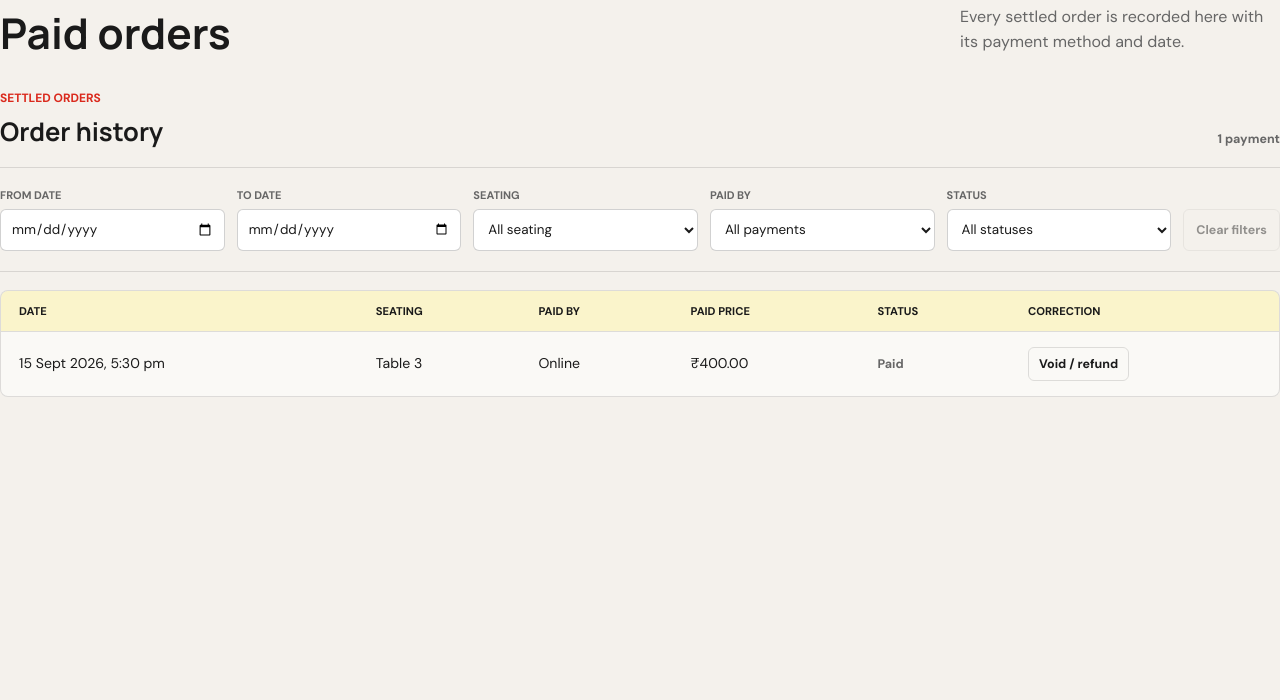
Test: financial views › records a reasoned refund while retaining the original paid order
Click the button "Void / refund" at (1079, 364), box [1028, 346, 1129, 380]
(page scrolled)
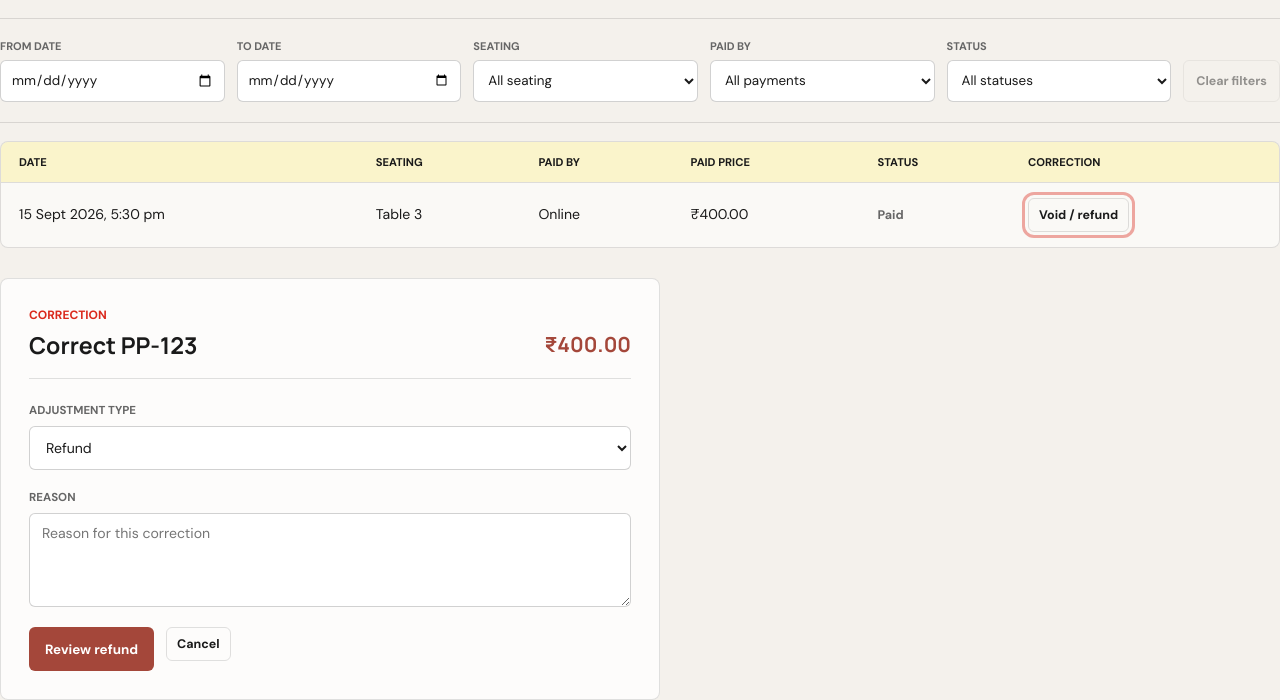
Type "Duplicate payment" into the text box labelled "Reason" at (330, 560), box [29, 513, 631, 607]
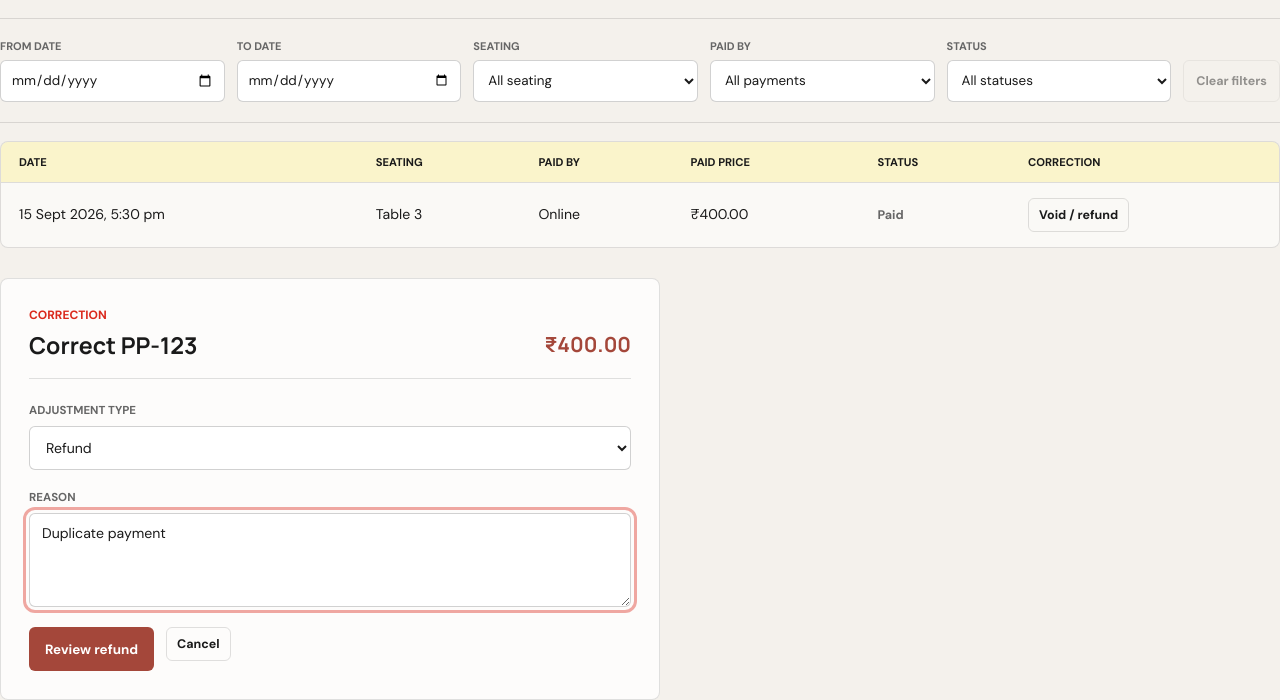
Click the button "Review refund" at (92, 649), box [29, 627, 154, 671]
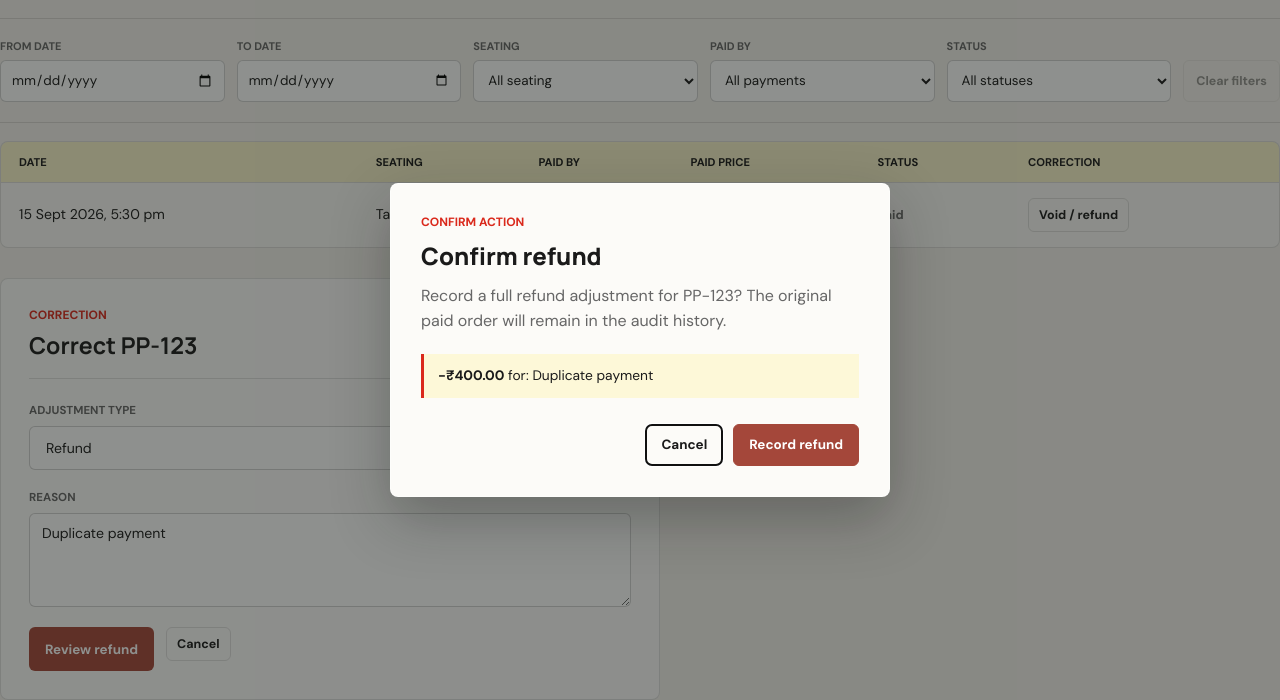
Expected: the dialog "Confirm refund" shows "-₹400.00", [390, 183, 890, 496]
Click the button "Record refund" at (796, 445), box [733, 424, 859, 466]
(page scrolled)
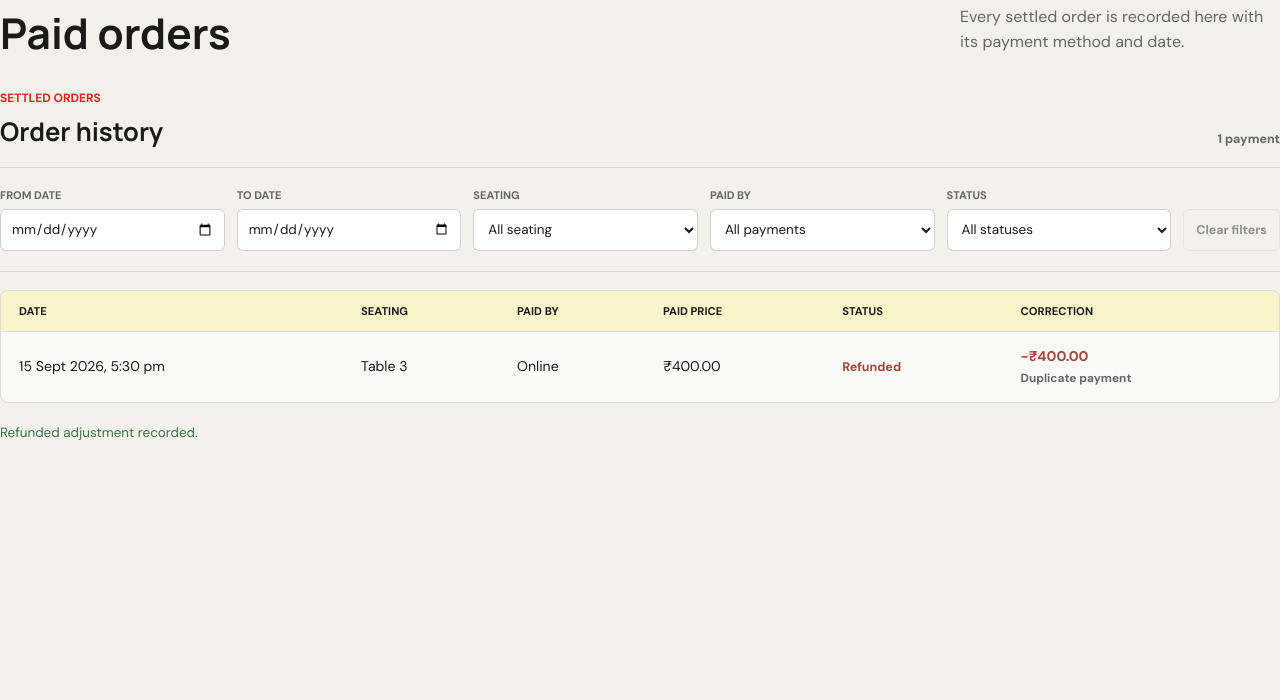
Expected: the text "-₹400.00" is shown, [1020, 346, 1088, 364]
Expected: the text "Refunded adjustment recorded." is shown, [0, 424, 198, 441]
Expected: the text "Refunded" is shown, [842, 359, 901, 375]
